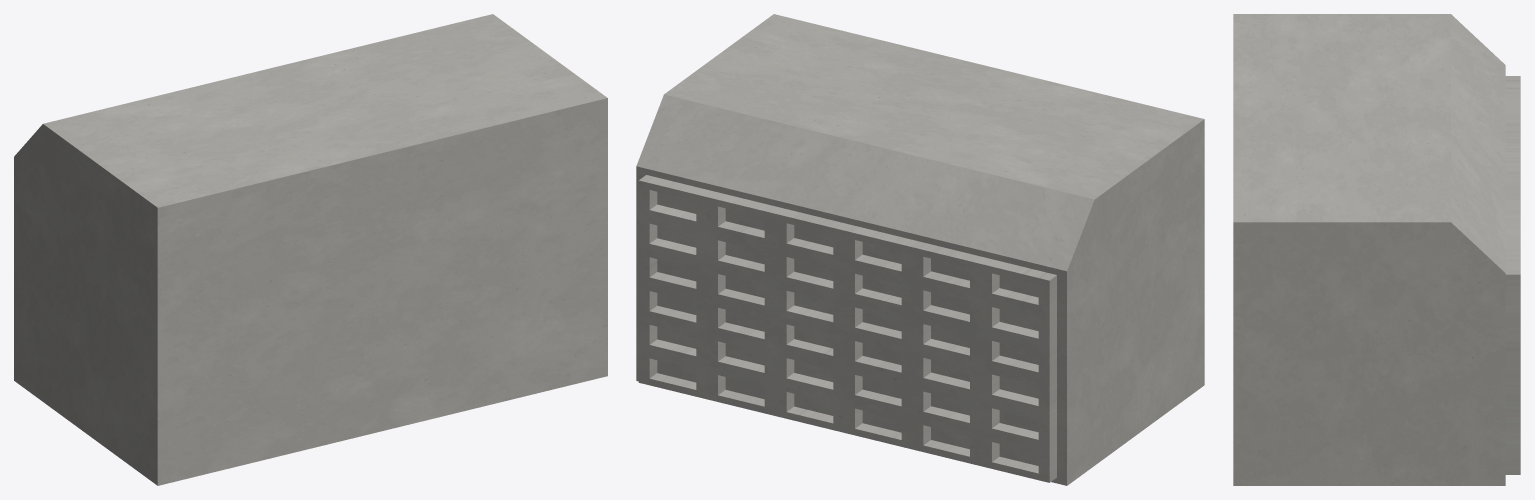
3 views of the same model, side by side, from view 1: azimuth 30°, elevation 25°; view 2: azimuth 150°, elevation 25°; view 3: azimuth 270°, elevation 25° (orthographic). The views are drawn at different scales.
Parts seen in each view (by area): view 1: Cube.003; view 2: Cube.003; view 3: Cube.003.
Boxes of the visible parts, x1=… form: Cube.003: x1=14, y1=14, x2=607, y2=485; Cube.003: x1=636, y1=14, x2=1204, y2=485; Cube.003: x1=1233, y1=14, x2=1520, y2=485.
Size of the model in its own units: 1.09 by 0.6441 by 0.6365.
1 material, 1 textured.
